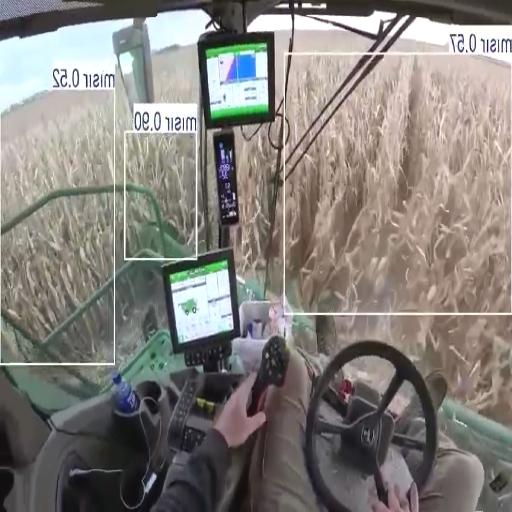misir: (231, 55, 512, 422), (1, 84, 219, 365)
